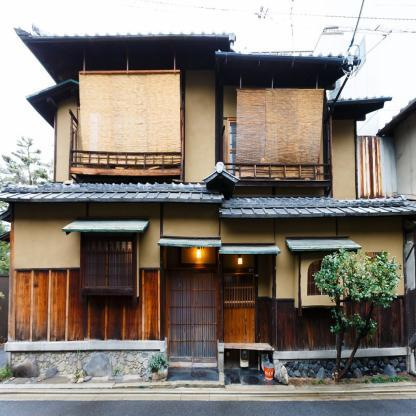Blind: (79, 70, 181, 169), (235, 88, 325, 180), (84, 249, 132, 287), (62, 217, 150, 233), (285, 238, 362, 252), (224, 281, 254, 307), (219, 244, 281, 254), (158, 238, 221, 247)
Building Outline: (0, 22, 416, 378)
Dont: (312, 246, 403, 382)
Door: (168, 270, 217, 361)
Facade: (57, 64, 327, 367)
Floor Slab: (54, 195, 358, 203)
Ground Floor: (10, 202, 406, 368)
Roof: (0, 162, 416, 218), (13, 22, 362, 66), (25, 79, 80, 105), (327, 96, 392, 107)
Top Floor: (54, 63, 358, 194)
Window: (78, 108, 180, 169), (229, 119, 319, 180), (84, 242, 132, 286), (307, 260, 336, 296), (224, 274, 254, 302), (365, 252, 387, 280)
Window Outline: (80, 233, 137, 303), (299, 250, 345, 316)
